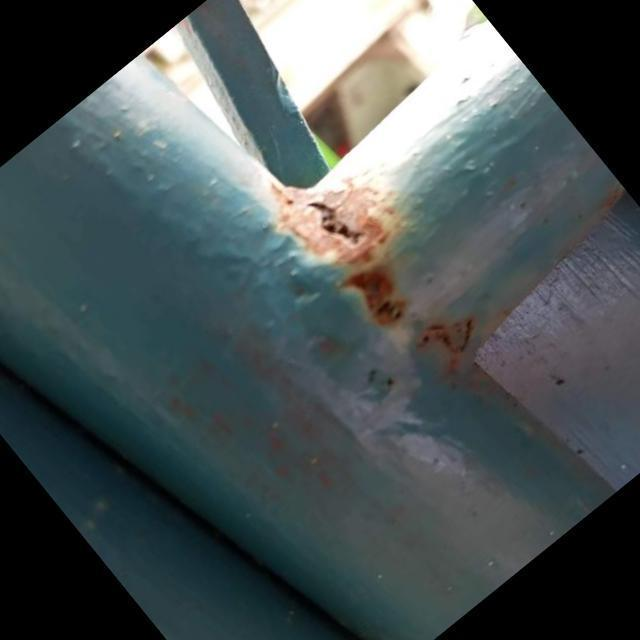defect: (305, 199, 377, 252)
